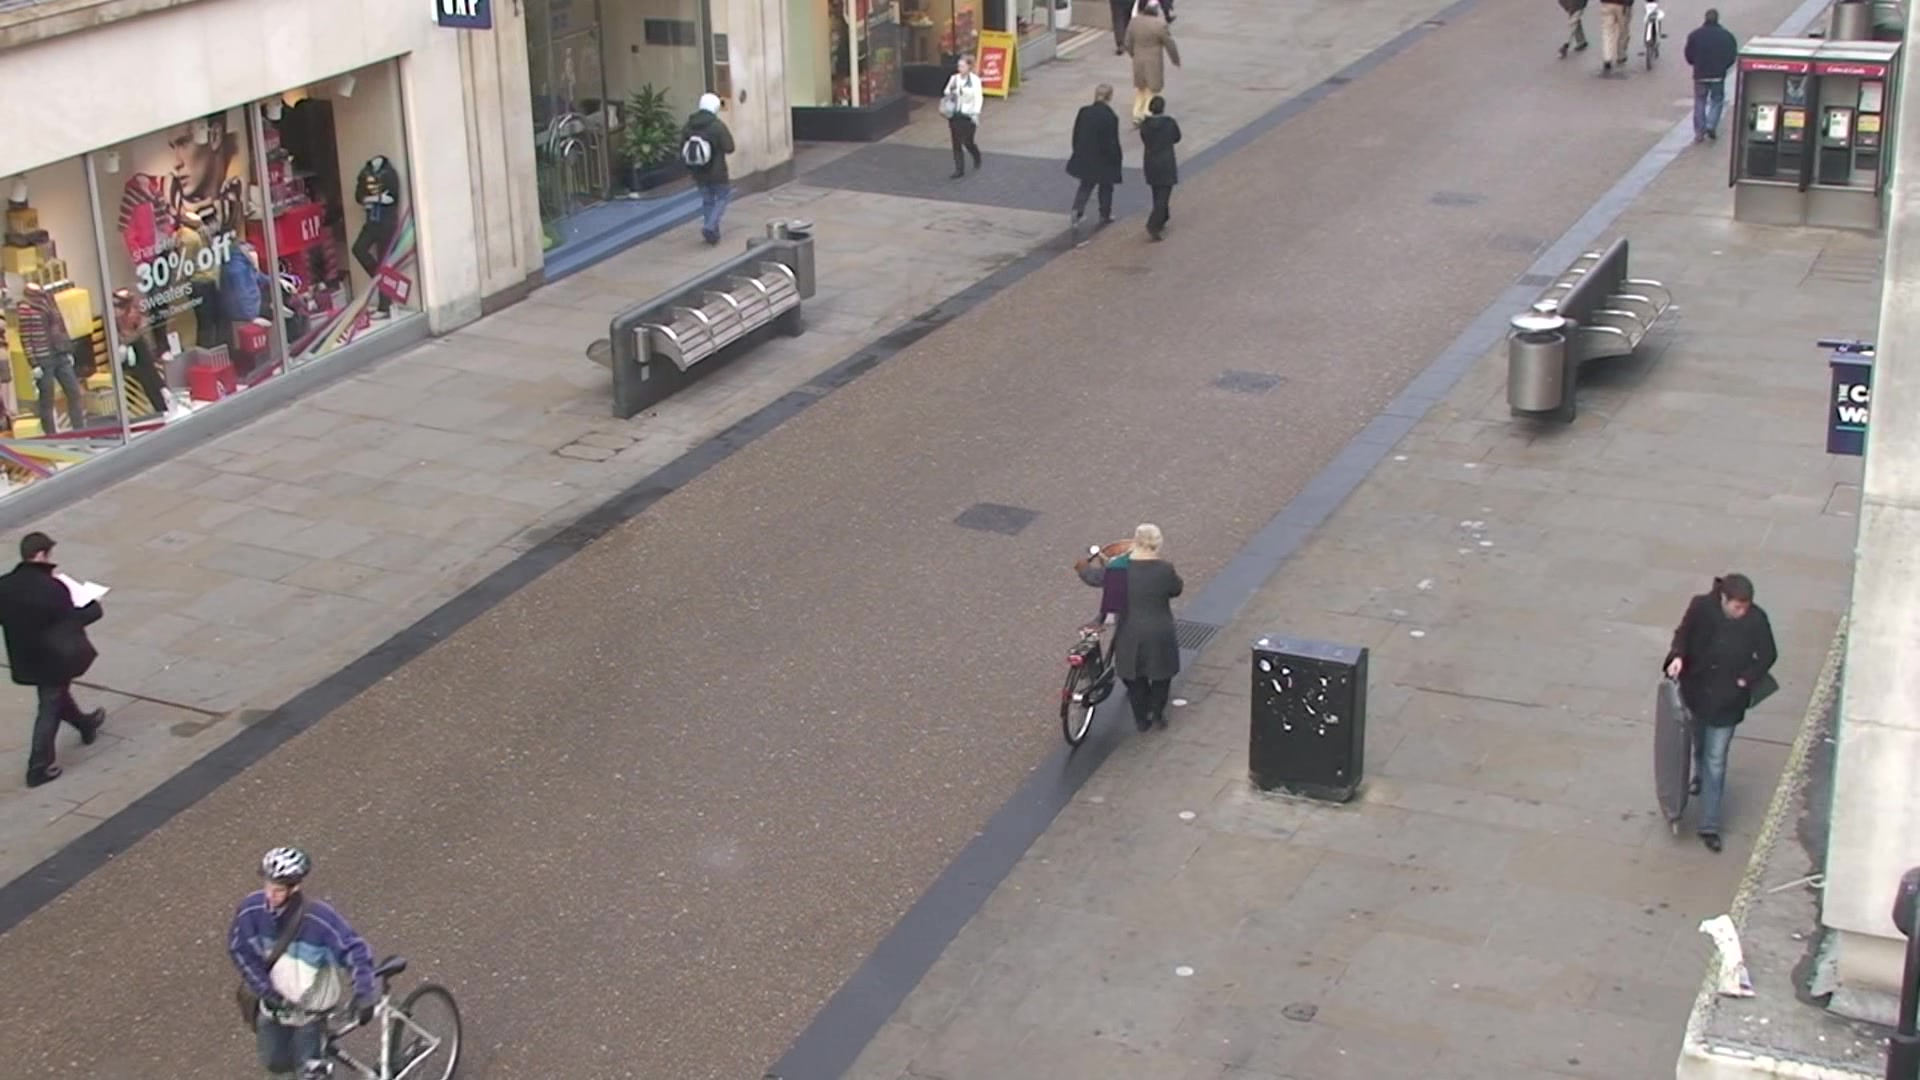person: (1664, 574, 1780, 854), (1, 530, 111, 788), (1077, 524, 1186, 734), (678, 92, 737, 245), (1065, 84, 1123, 233), (1683, 8, 1737, 147), (1134, 95, 1183, 244), (1124, 1, 1182, 127), (936, 56, 988, 181)
